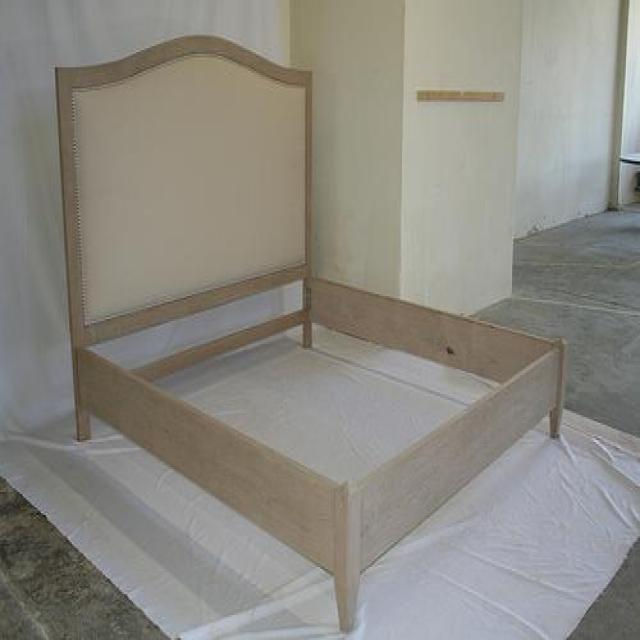bed: (53, 31, 570, 640)
